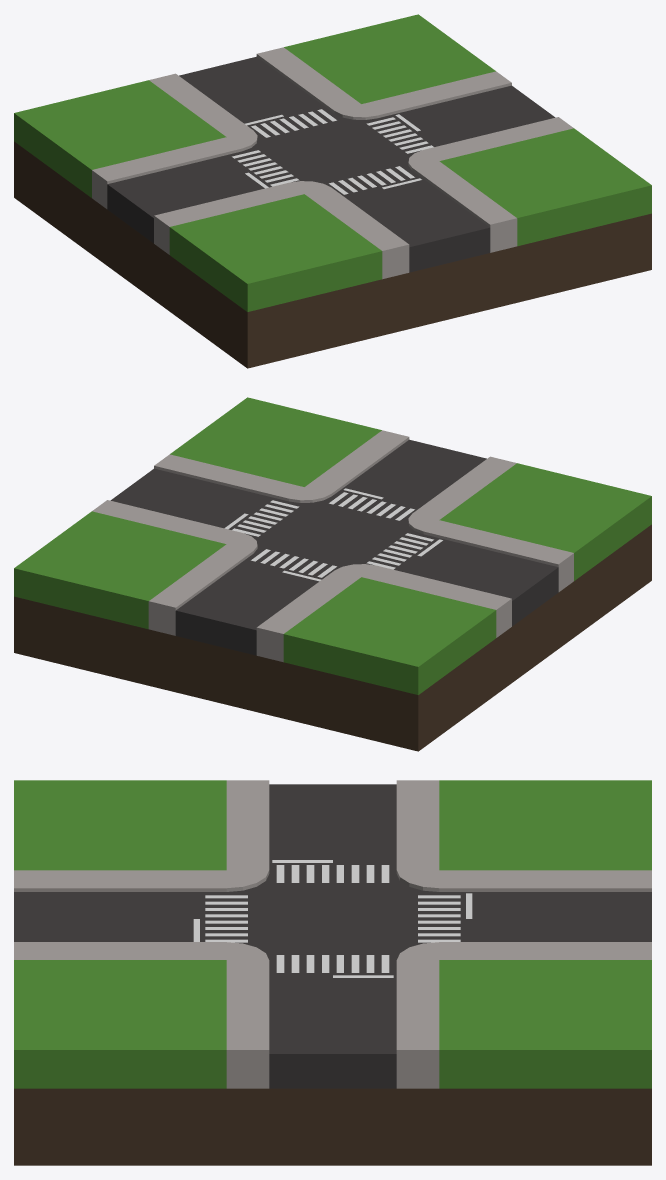
3 views of the same model, one above another, from view 1: azimuth 30°, elevation 25°; view 2: azimuth 150°, elevation 25°; view 3: azimuth 270°, elevation 25° (orthographic). The views are drawn at different scales.
Parts seen in each view (by area): view 1: tile-road-intersection; view 2: tile-road-intersection; view 3: tile-road-intersection.
Boxes of the visible parts, x1,y1,x2,y2 form: tile-road-intersection: (14,14,651,368); tile-road-intersection: (14,397,651,751); tile-road-intersection: (14,780,651,1165).
Size of the model in its own units: 30 by 6 by 30.
